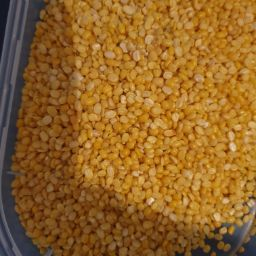Red Split Lentils(malka masar): (34, 6, 256, 256), (61, 15, 228, 256), (73, 38, 256, 167)
